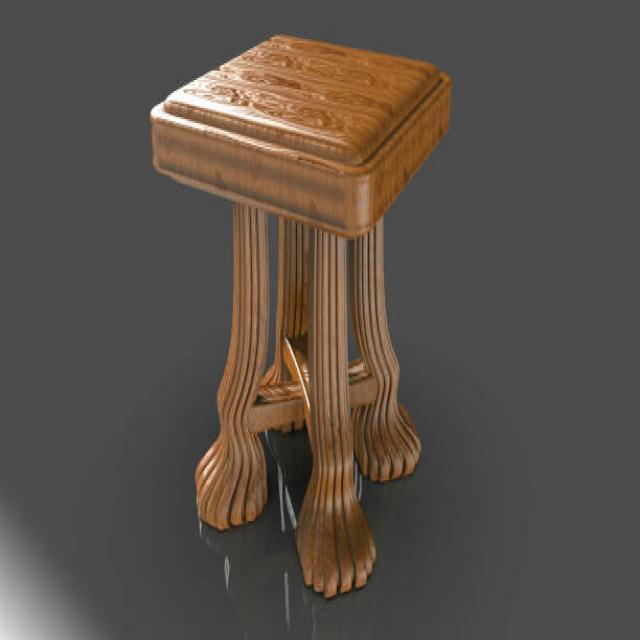table: (148, 31, 452, 598)
